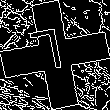L_S: (35, 27, 75, 83)
